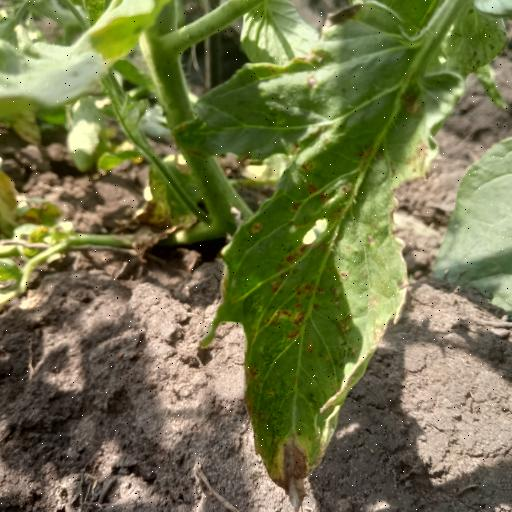Tomato_Brown_Spots: (160, 0, 512, 512)
